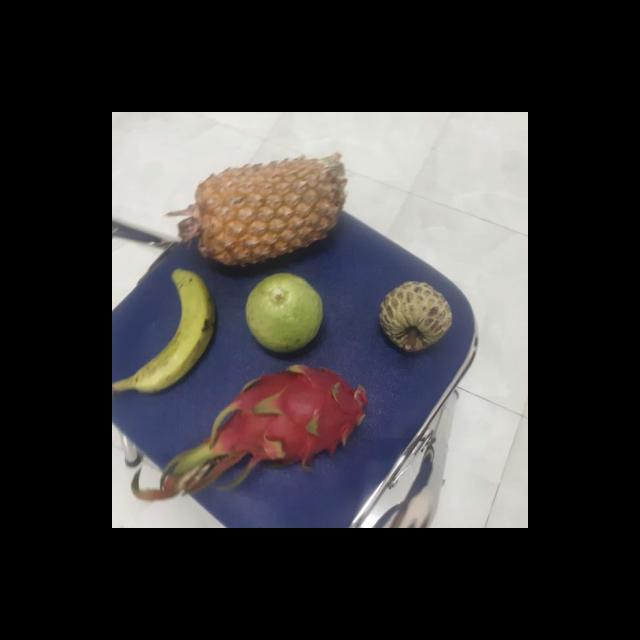Sakya fruit: (380, 280, 458, 354)
banana: (130, 271, 220, 396)
guava: (246, 273, 326, 353)
pineapple: (193, 156, 344, 271)
pitaya: (212, 366, 378, 469)
